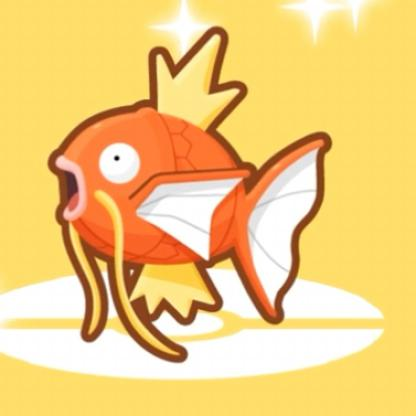Magikarp: (35, 25, 326, 367)
